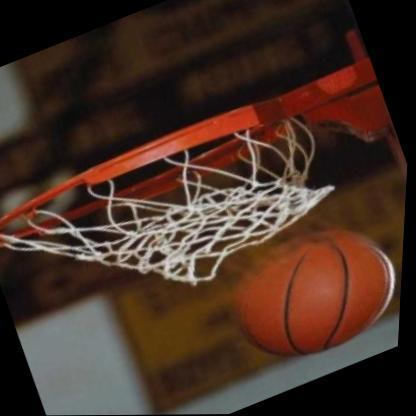basketball: (217, 209, 407, 385)
rim: (0, 72, 361, 345)
